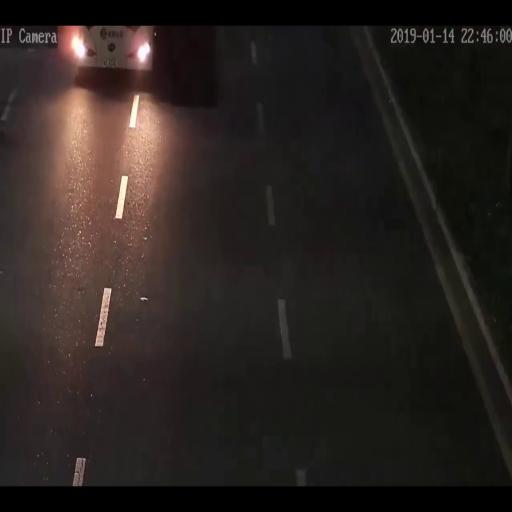License plate: (103, 59, 118, 68)
Vehicle: (58, 26, 154, 74)
